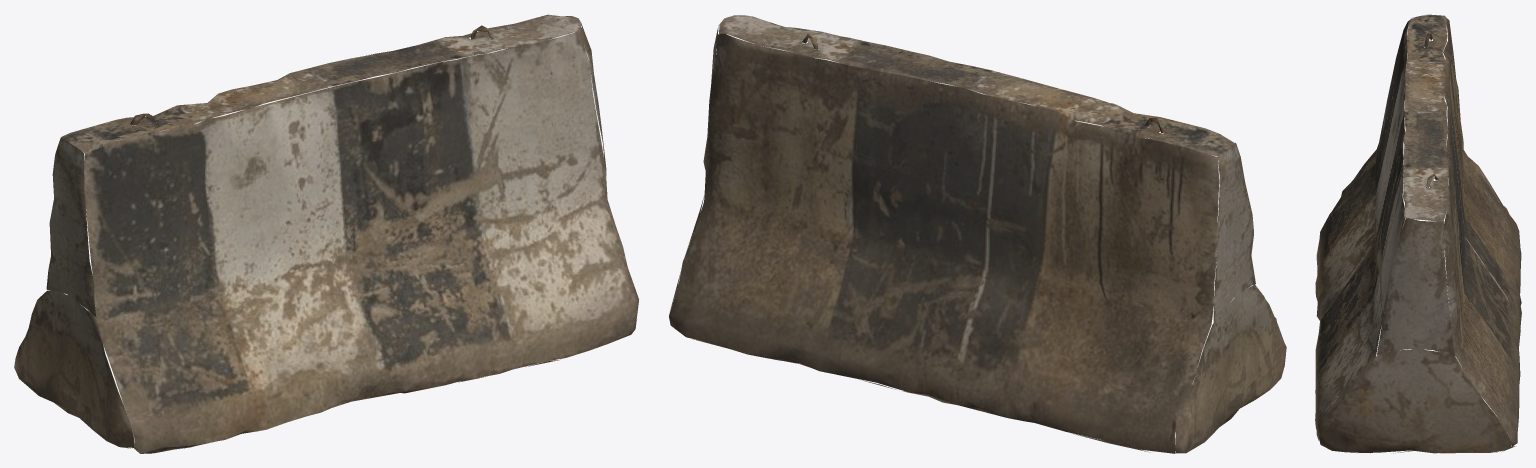
File: barrier_concrete.glb
3 renders of one model, left to right at view 1: azimuth 30°, elevation 25°; view 2: azimuth 150°, elevation 25°; view 3: azimuth 270°, elevation 25°, orthographic. The views are drawn at different scales.
Parts seen in each view (by area): view 1: barrier_concrete; view 2: barrier_concrete; view 3: barrier_concrete.
Part boxes in pixels (<box>): barrier_concrete: <box>14,14,638,453</box>; barrier_concrete: <box>669,15,1286,453</box>; barrier_concrete: <box>1315,14,1521,453</box>.
Bounding box in the file's own units: 0.0772 × 0.0416 × 0.0317.
Materials: 1 (1 with a texture image).
